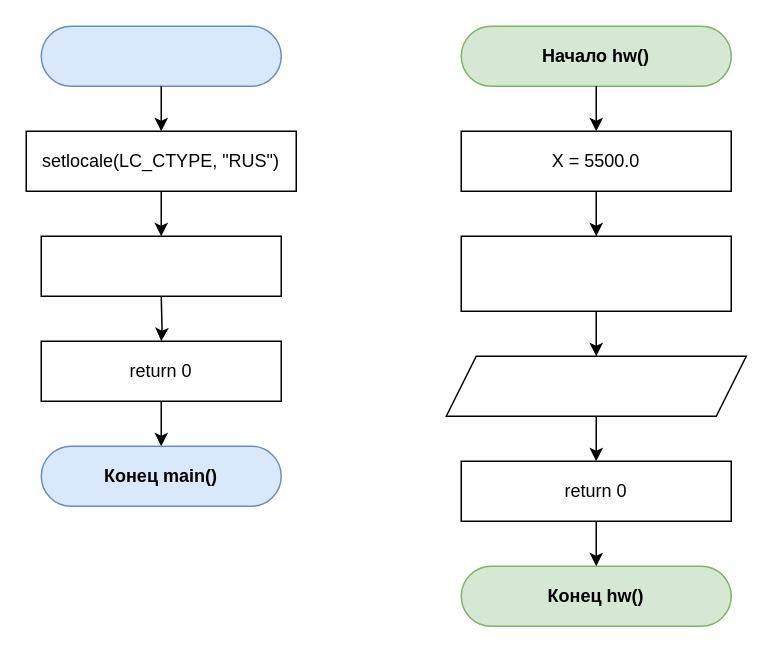
This 773x653 diagram has some shape labels left out. Each missing label, with the centre of its shape:
"hw()" goes at (x=160, y=265).
"total = 4 * X tips = total * 0.15" goes at (x=595, y=273).
"Вывод: X, total, tips" goes at (x=595, y=385).
"Начало main()" goes at (x=160, y=55).
